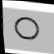no answer: (11, 14, 41, 41)
